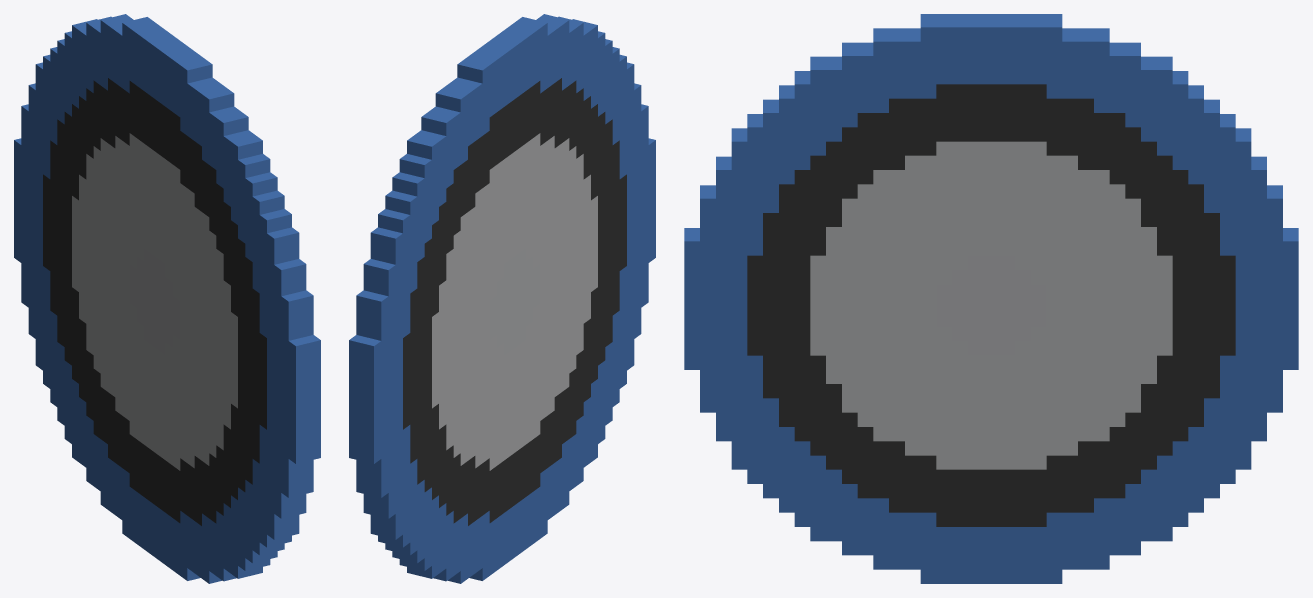
The model's file is Target.obj.
3 views of the same model, side by side, from view 1: azimuth 30°, elevation 25°; view 2: azimuth 150°, elevation 25°; view 3: azimuth 270°, elevation 25° (orthographic). The views are drawn at different scales.
Bounding box in the file's own units: 0.2 × 3.9 × 3.9.
